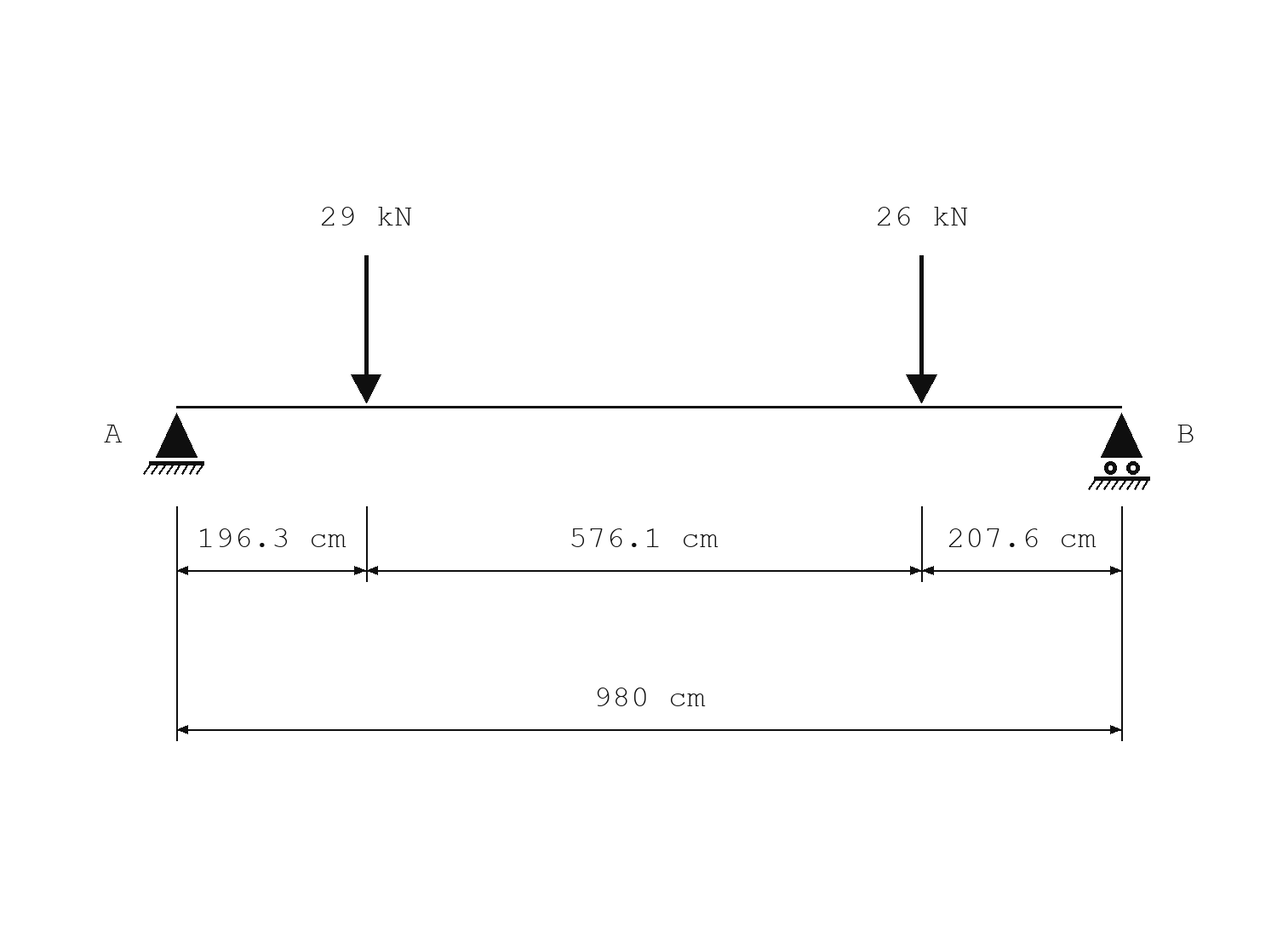pin_support: (143, 413, 204, 475)
point_load: (906, 255, 937, 403), (351, 255, 381, 403)
roller_support: (1088, 413, 1150, 490)
